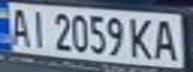0: (66, 10, 90, 54)
2: (48, 9, 72, 52)
5: (87, 12, 109, 56)
9: (103, 14, 130, 57)
A: (151, 16, 181, 62), (3, 4, 33, 47)
I: (27, 7, 51, 50)
K: (127, 15, 157, 61)
